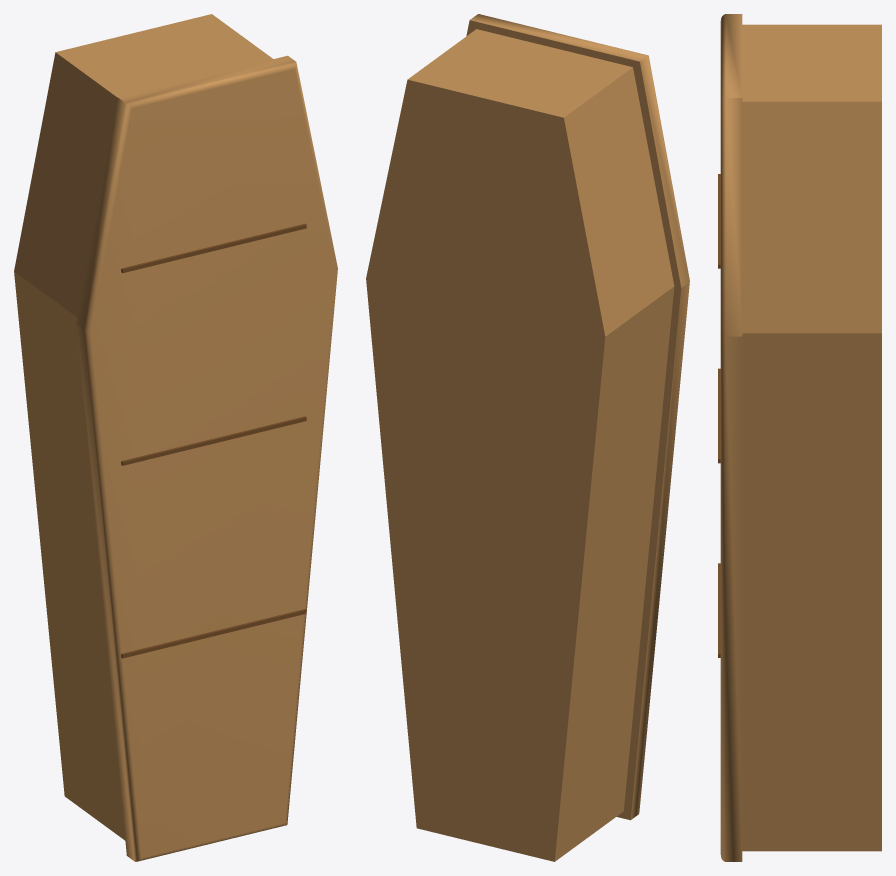
The model's file is coffin_pine.glb.
3 views of the same model, side by side, from view 1: azimuth 30°, elevation 25°; view 2: azimuth 150°, elevation 25°; view 3: azimuth 270°, elevation 25° (orthographic).
Visible parts, largest first — view 1: Lid, Box, Seam_0, Seam_2, Seam_1; view 2: Box, Lid; view 3: Box, Lid.
Part boxes in pixels (x1=…): Lid: x1=76, y1=55, x2=337, y2=861; Box: x1=14, y1=14, x2=273, y2=840; Seam_0: x1=121, y1=609, x2=306, y2=658; Seam_2: x1=121, y1=223, x2=306, y2=273; Seam_1: x1=121, y1=416, x2=306, y2=465; Box: x1=366, y1=29, x2=674, y2=861; Lid: x1=466, y1=14, x2=689, y2=820; Box: x1=742, y1=24, x2=881, y2=851; Lid: x1=720, y1=14, x2=742, y2=861.
Bounding box in the file's own units: 0.55 × 1.58 × 0.305.
